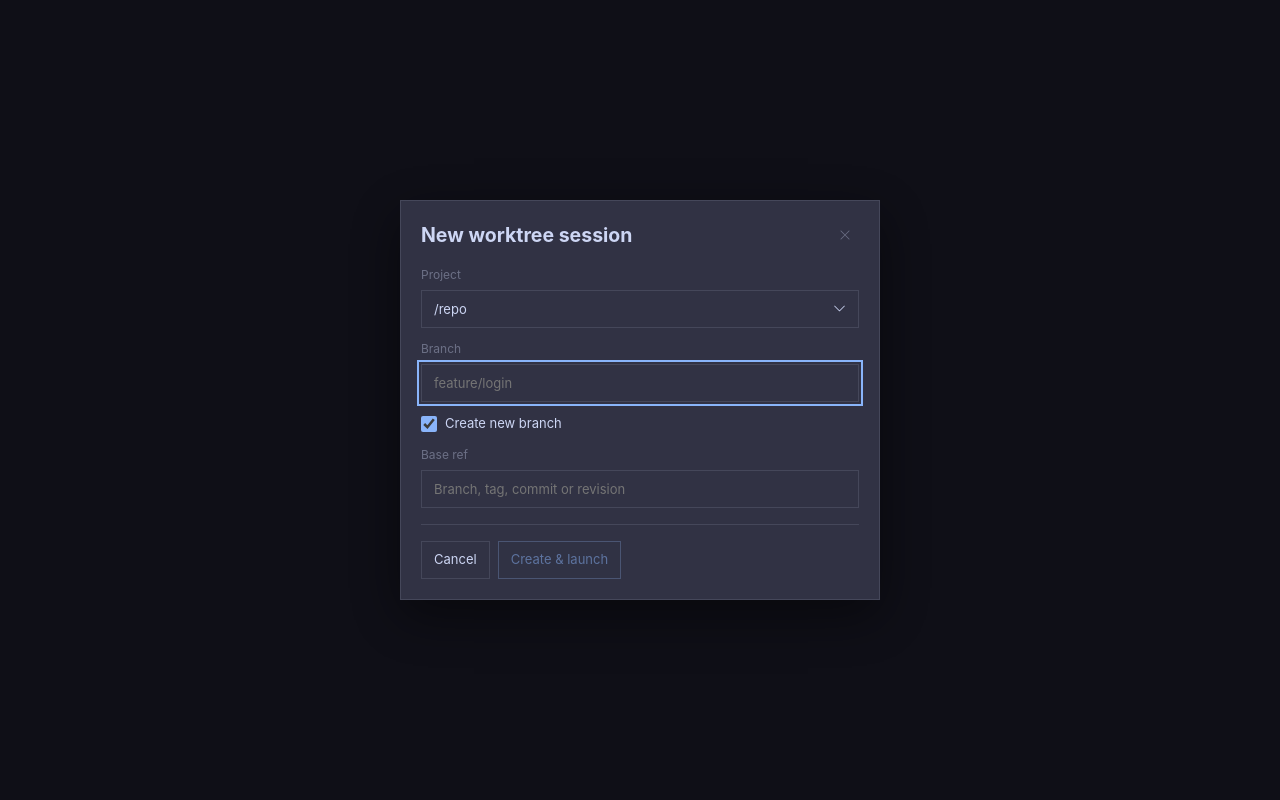
Test case: WorktreeFormModal machine ownership › creates on the named remote and opens the session there
Type "x" into the field with placeholder "feature/login".
click(640, 383); type("x")  # box [421,364,859,402]
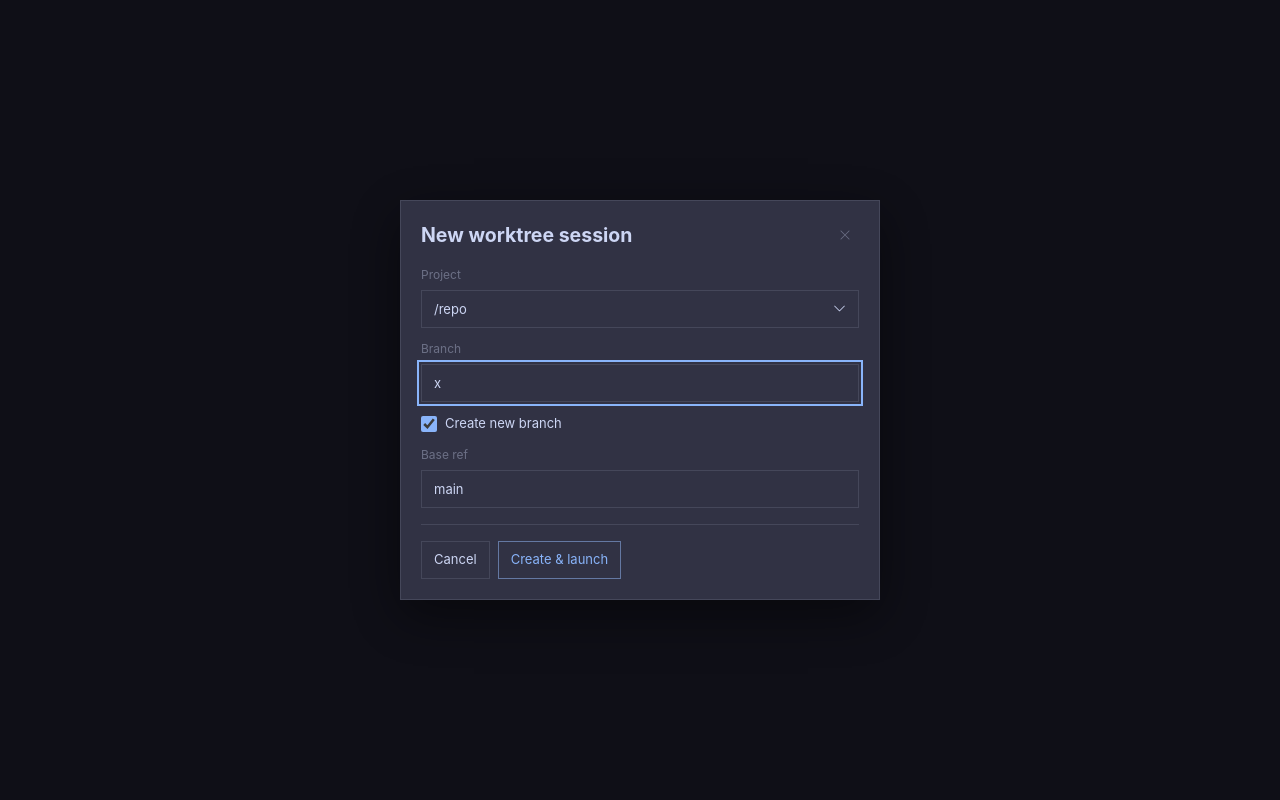
Check: the field labelled "Base ref" holds "main", box [421,470,859,508]
Click the button "Create & launch".
click(559, 560)  # box [498,541,621,579]
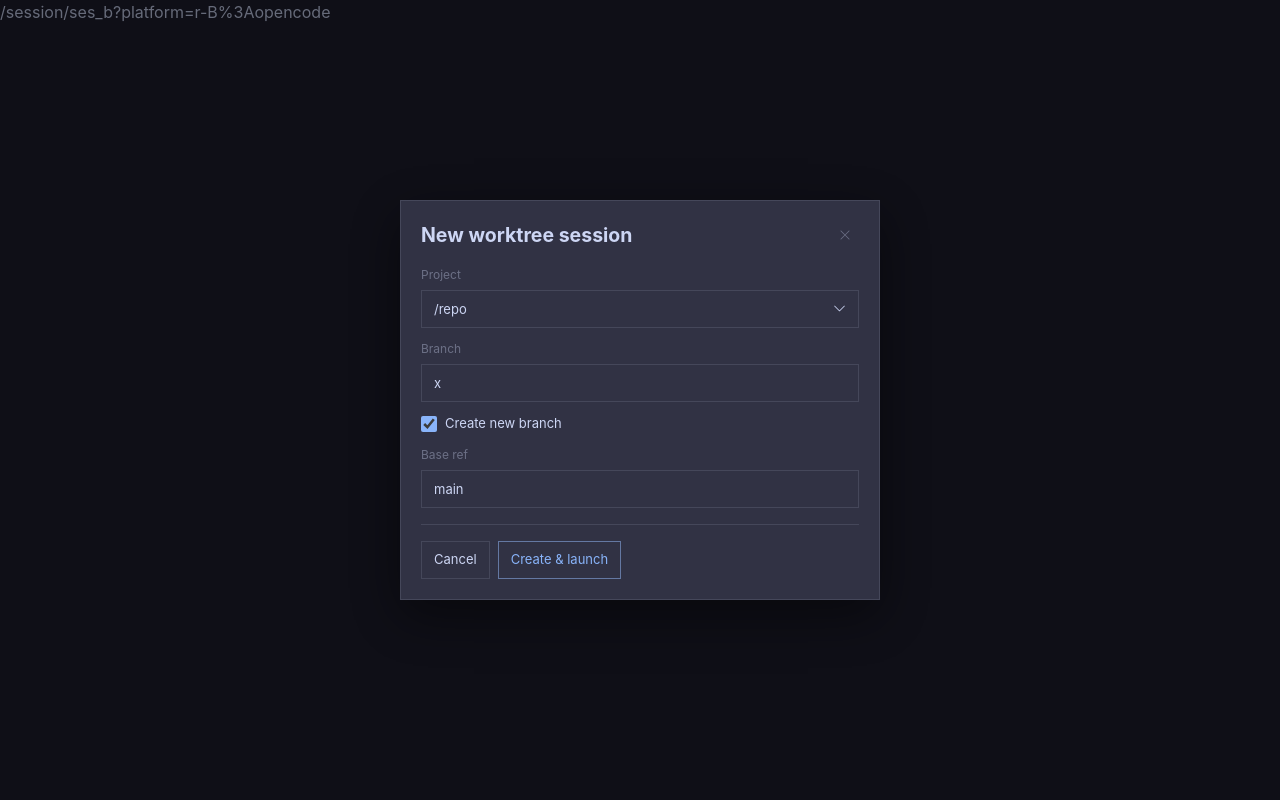
Check: the text with test id "where" reads "/session/ses_b?platform=r-B%3Aopencode", box [0,2,330,22]
